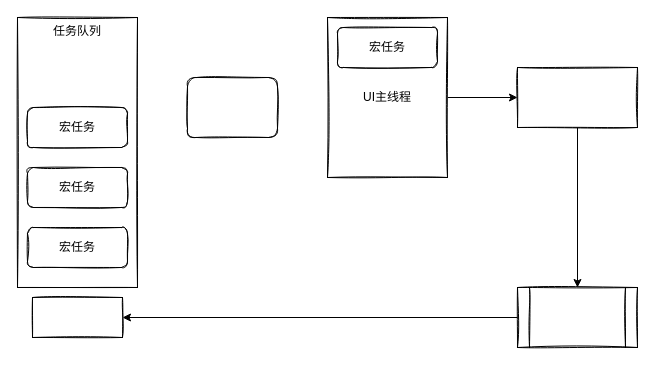
This 655x365 diagram has some shape labels left out. Here are the shapes that lost their labels. From the top down, the centre of each, then its label:
(x=232, y=107): 微任务
(x=577, y=97): I/O network
